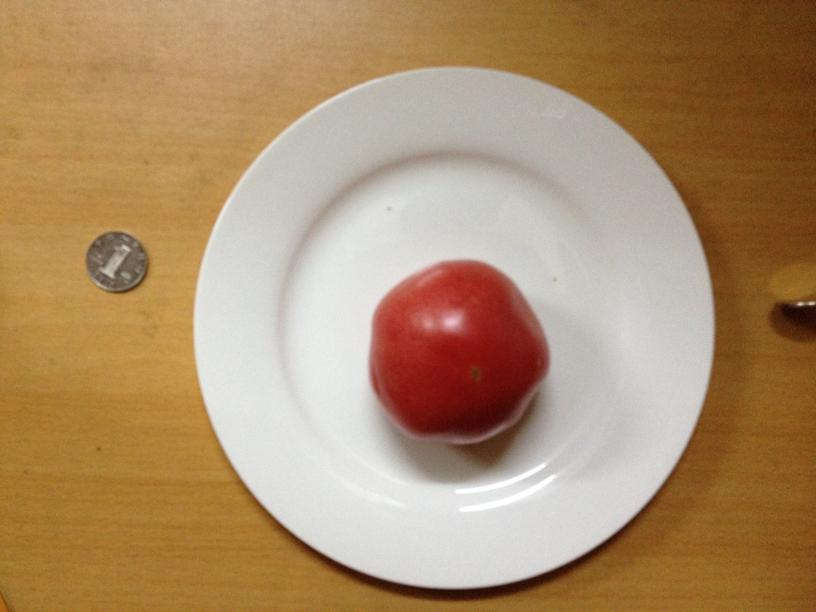coin: (80, 232, 150, 291)
tomato: (360, 258, 551, 445)
